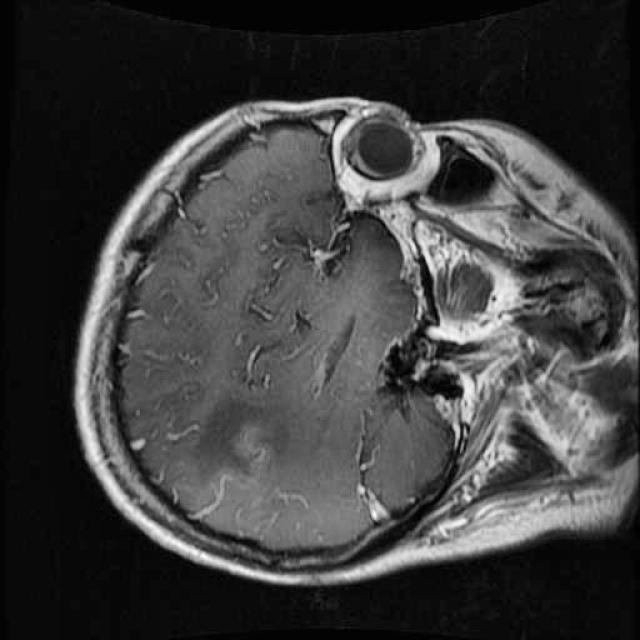Tumor: (157, 386, 281, 530)
